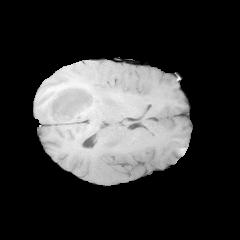glioma: (44, 84, 99, 123)
